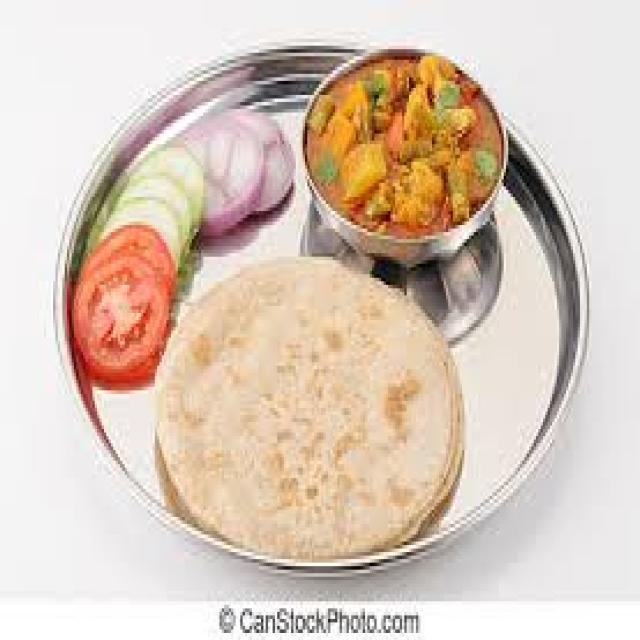roti: (160, 262, 465, 572)
veg: (297, 41, 515, 259)
